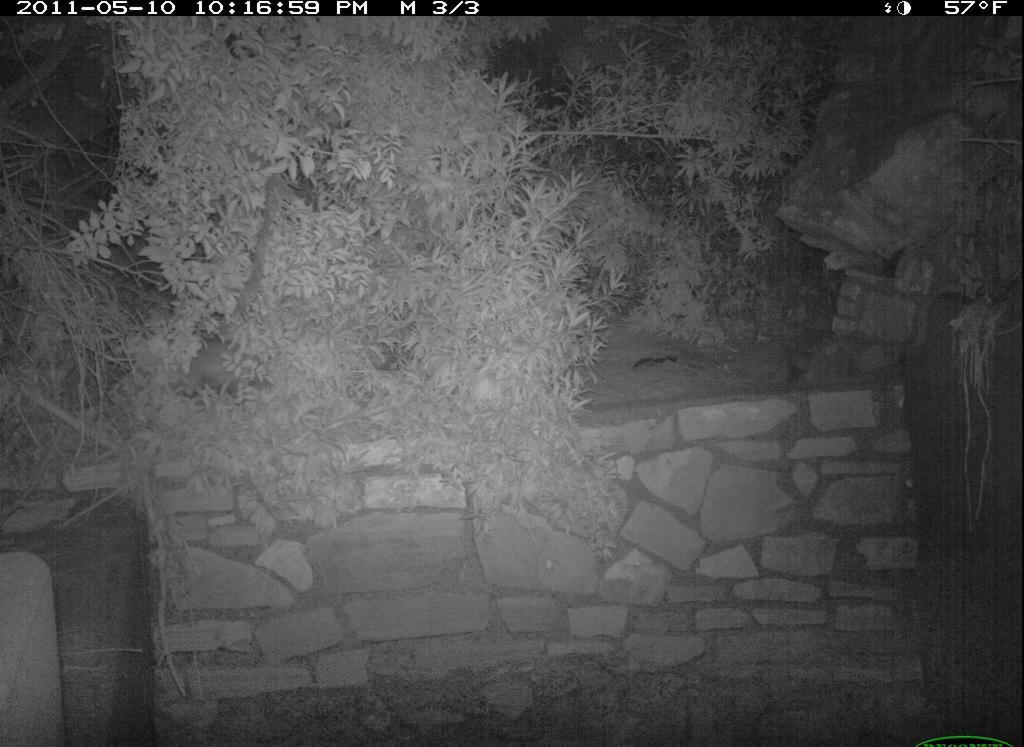opossum: (150, 311, 270, 411)
